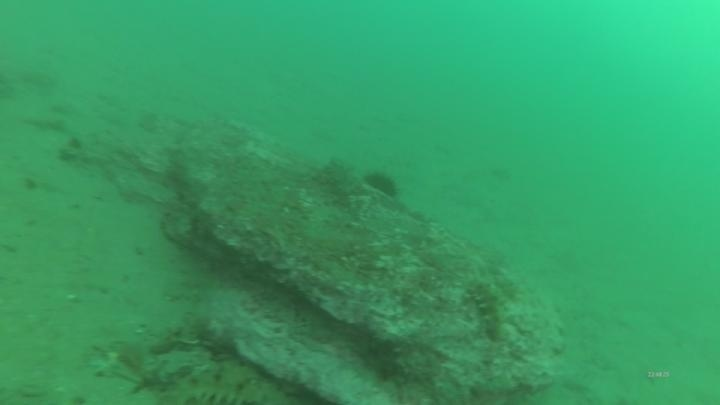echinus: (361, 167, 402, 201)
holothurian: (162, 362, 282, 405), (465, 275, 510, 344)
